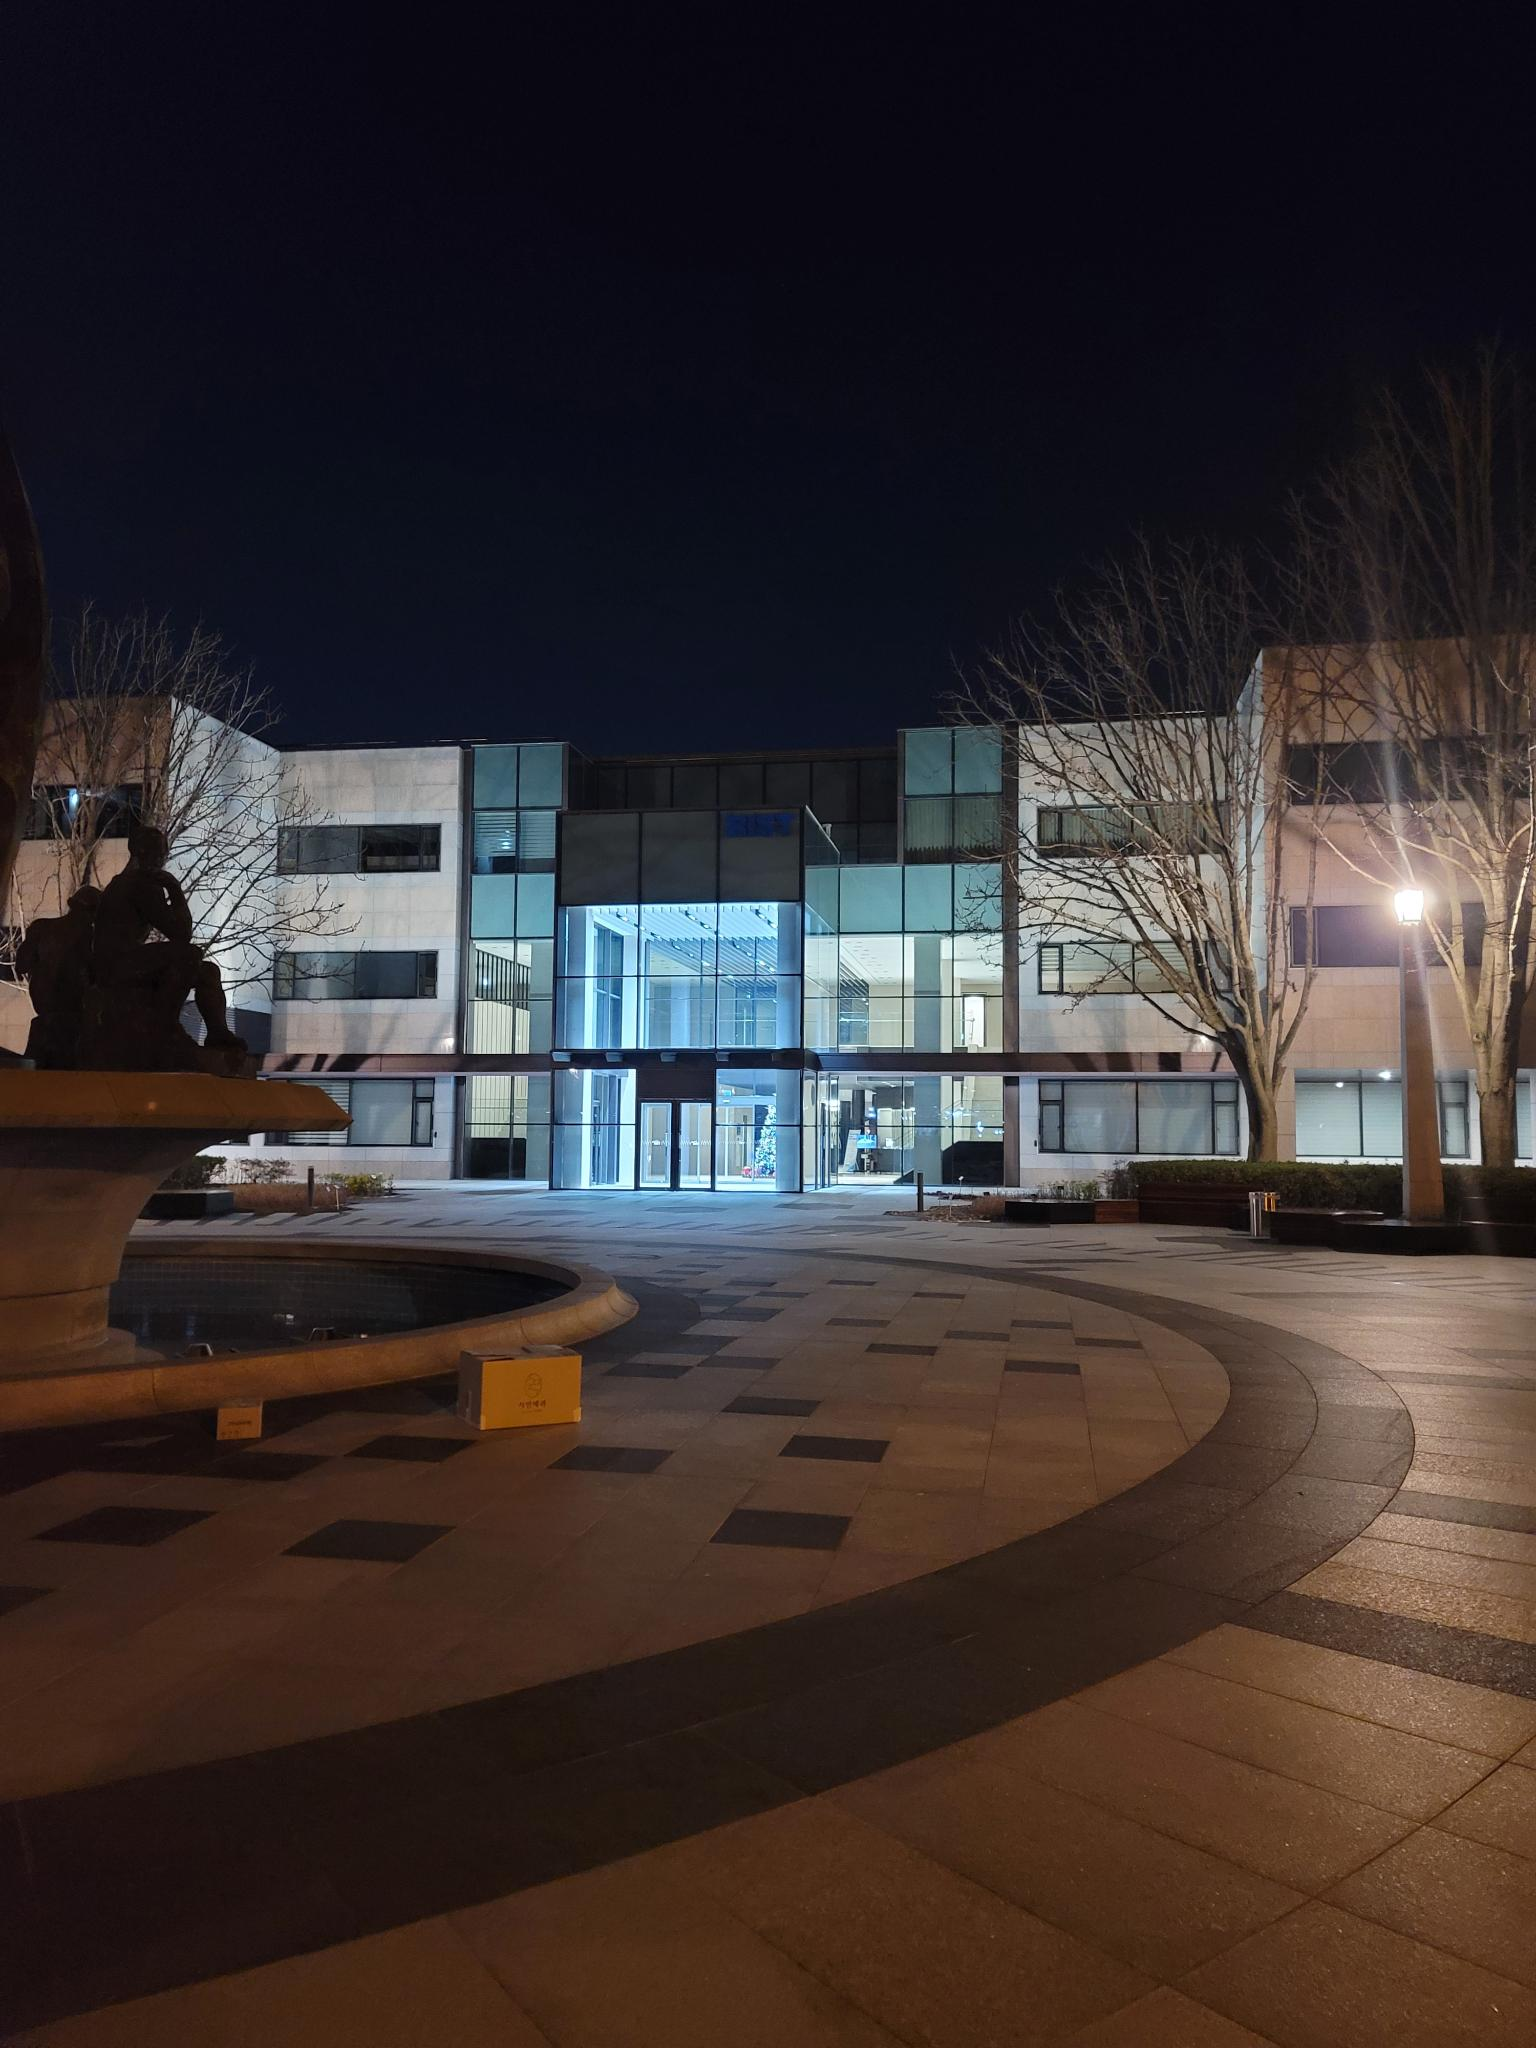Box: (447, 1330, 605, 1434), (195, 1385, 284, 1450)
